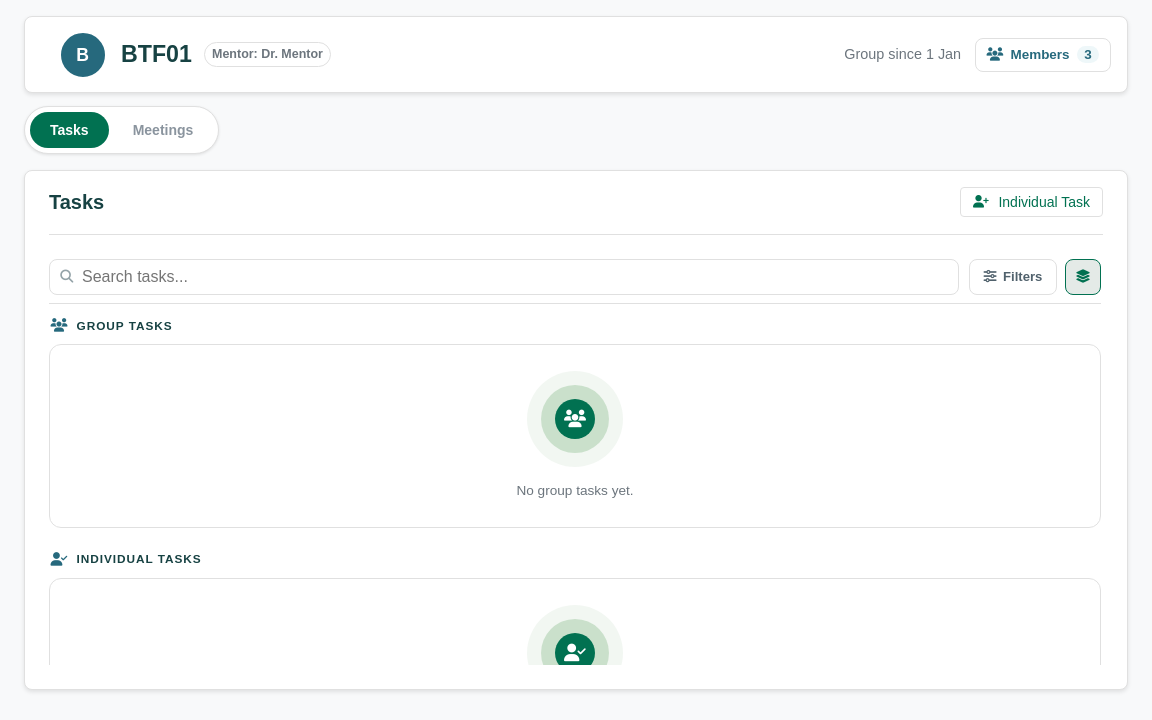
Test: GroupDetailPage mutual interests in members modal › renders mutual interests under "Mutual Interests" heading in members modal when 2 or more members share interests
The image size is (1152, 720).
Step 1. Click the button with class "group-members-btn" → (1043, 55), box [975,38,1111,72]
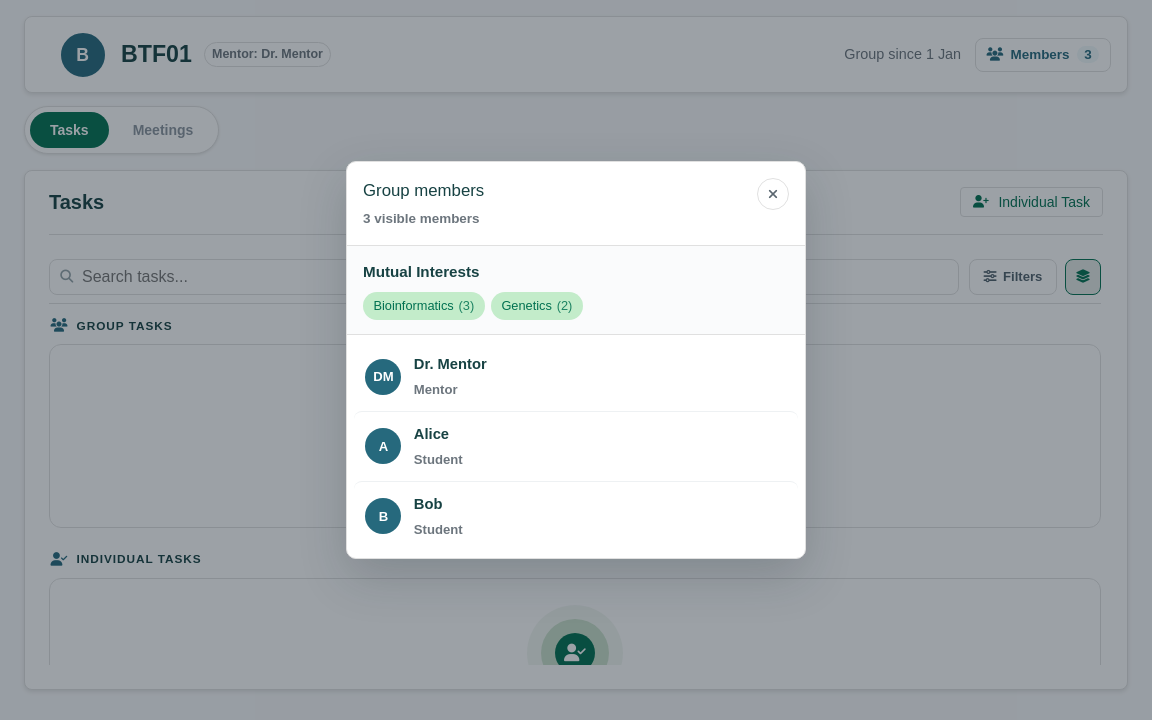
Now the element with class "group-members-dialog" is shown, box [346,161,806,559]
Now the element with class "group-members-dialog-interests" is shown, box [347,246,805,335]
Now the heading "Mutual Interests" is shown, box [363,263,480,280]
